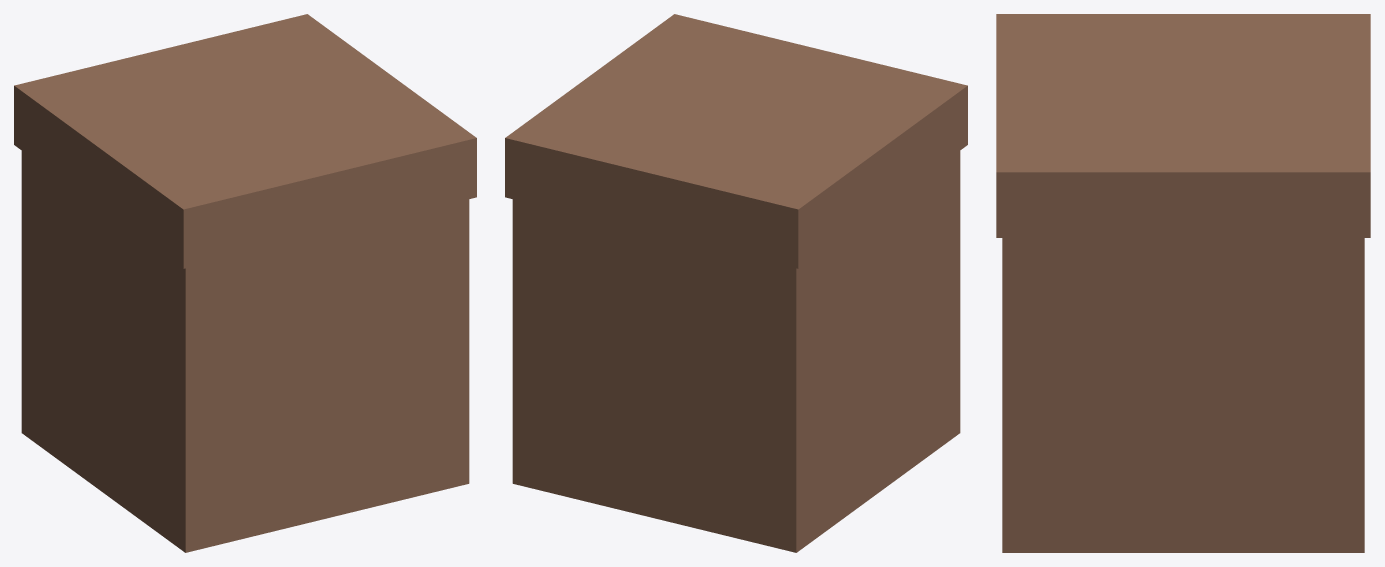
File: casaco_pelo_manga_sup.glb
The picture shows the model from 3 angles, left to right: view 1: azimuth 30°, elevation 25°; view 2: azimuth 150°, elevation 25°; view 3: azimuth 270°, elevation 25°; orthographic projection. The views are drawn at different scales.
Visible parts, largest first — view 1: casaco_pelo_manga_sup; view 2: casaco_pelo_manga_sup; view 3: casaco_pelo_manga_sup.
Part boxes in pixels (x1=…): casaco_pelo_manga_sup: x1=14, y1=14, x2=476, y2=552; casaco_pelo_manga_sup: x1=505, y1=14, x2=967, y2=552; casaco_pelo_manga_sup: x1=996, y1=14, x2=1370, y2=552.
Bounding box in the file's own units: 0.31 × 0.35 × 0.31.
